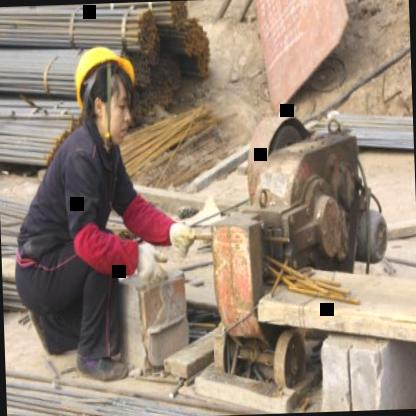helmet: (62, 32, 146, 150)
